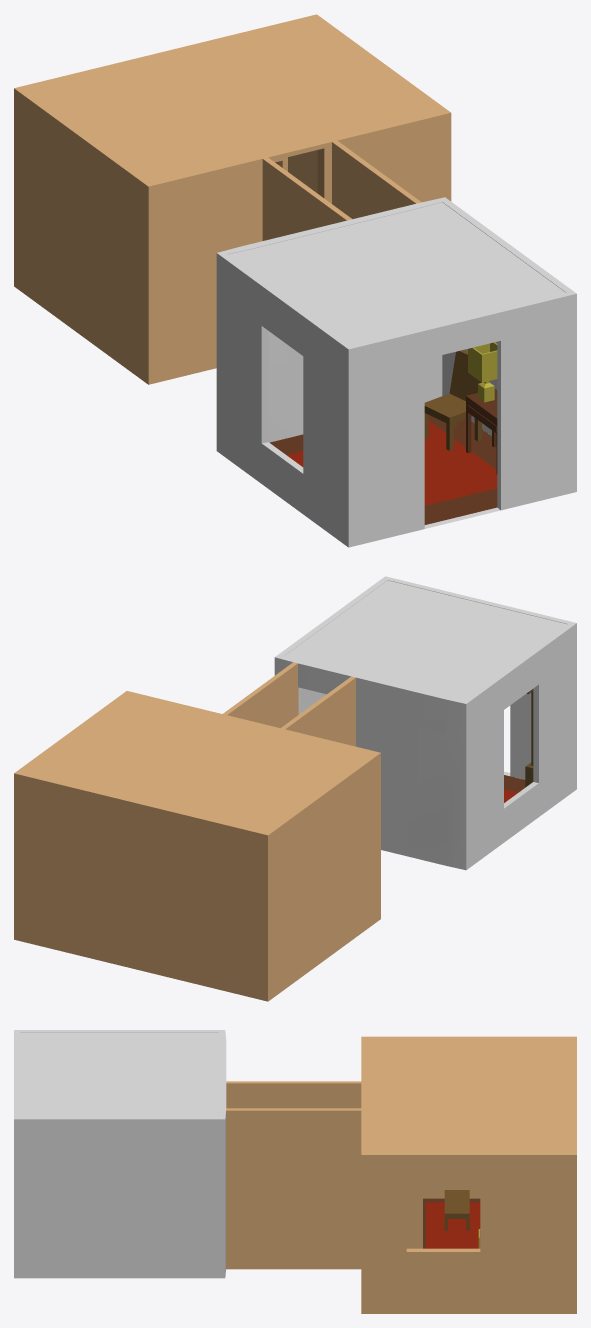
The model's file is LienEntreSalle (2).glb.
3 renders of one model, top to bottom at view 1: azimuth 30°, elevation 25°; view 2: azimuth 150°, elevation 25°; view 3: azimuth 270°, elevation 25°, orthographic. The views are drawn at different scales.
Visible parts, largest first — view 1: S_Hall, murAvecFenetre.001, Plane.005, Plane.014, S_Carpet, Plane.015, S_Chair, S_Lamp, S_Table, Plane.008; view 2: murAvecFenetre.001, S_Hall, Plane.005, Plane.014, Plane.015; view 3: S_Hall, murAvecFenetre.001, Plane.005, Plane.015, Plane.014, Plane.002, Plane.008, Cube.009.
Part boxes in pixels (x1=…): S_Hall: x1=216, y1=197, x2=576, y2=547; murAvecFenetre.001: x1=14, y1=14, x2=451, y2=384; Plane.005: x1=28, y1=20, x2=437, y2=180; Plane.014: x1=261, y1=156, x2=352, y2=240; S_Carpet: x1=286, y1=420, x2=497, y2=505; Plane.015: x1=330, y1=140, x2=421, y2=218; S_Chair: x1=424, y1=350, x2=481, y2=450; S_Lamp: x1=468, y1=342, x2=497, y2=402; S_Table: x1=466, y1=389, x2=497, y2=474; Plane.008: x1=288, y1=150, x2=317, y2=193; murAvecFenetre.001: x1=14, y1=691, x2=380, y2=1001; S_Hall: x1=274, y1=576, x2=576, y2=870; Plane.005: x1=25, y1=695, x2=368, y2=830; Plane.014: x1=281, y1=676, x2=355, y2=746; Plane.015: x1=221, y1=662, x2=298, y2=728; S_Hall: x1=14, y1=1030, x2=226, y2=1278; murAvecFenetre.001: x1=361, y1=1036, x2=576, y2=1313; Plane.005: x1=370, y1=1040, x2=568, y2=1151; Plane.015: x1=226, y1=1108, x2=364, y2=1269; Plane.014: x1=226, y1=1081, x2=361, y2=1108; Plane.002: x1=426, y1=1202, x2=480, y2=1248; Plane.008: x1=406, y1=1179, x2=422, y2=1248; Cube.009: x1=444, y1=1190, x2=469, y2=1230.
Size of the model in its own units: 4.46 by 2.67 by 8.5.
